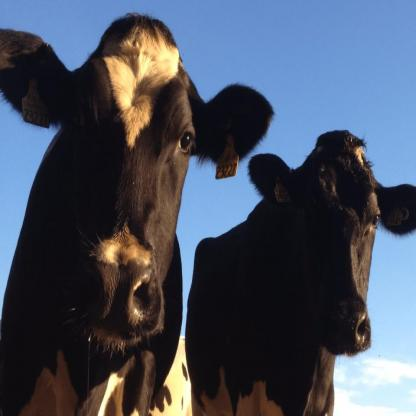cow: (0, 14, 275, 416), (184, 129, 416, 416)
